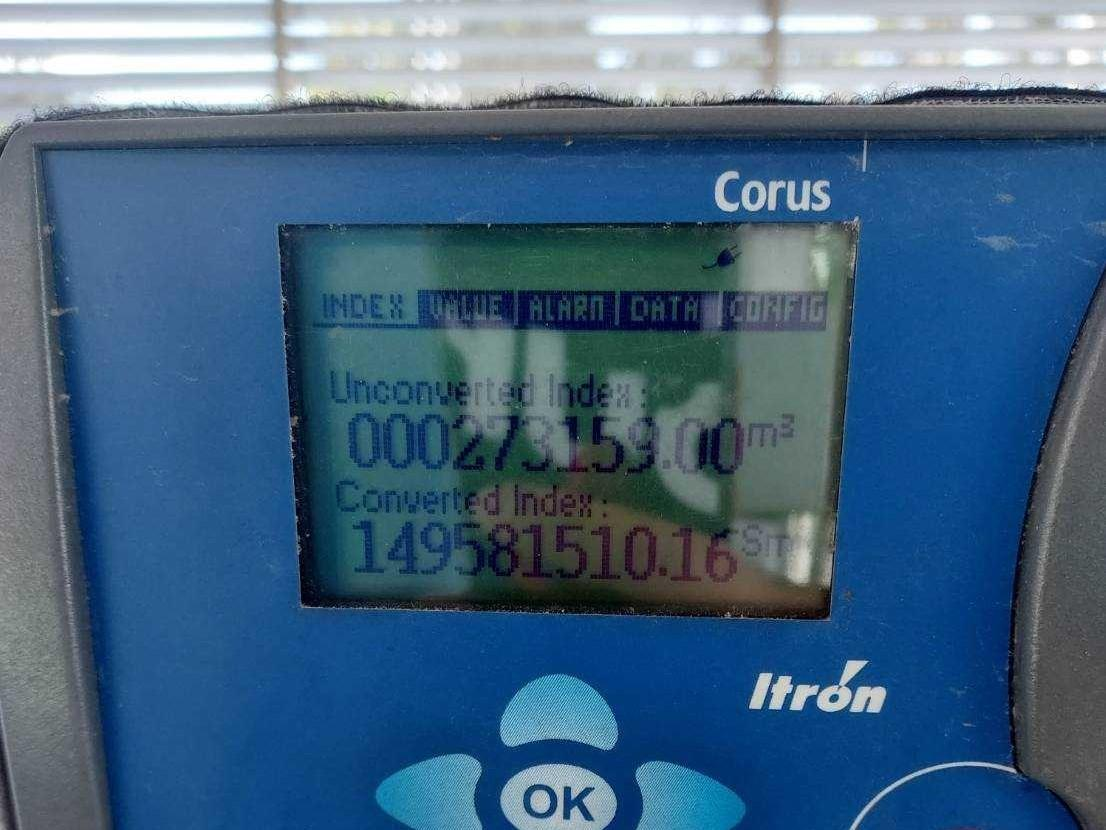digital_screen: (279, 221, 861, 627)
